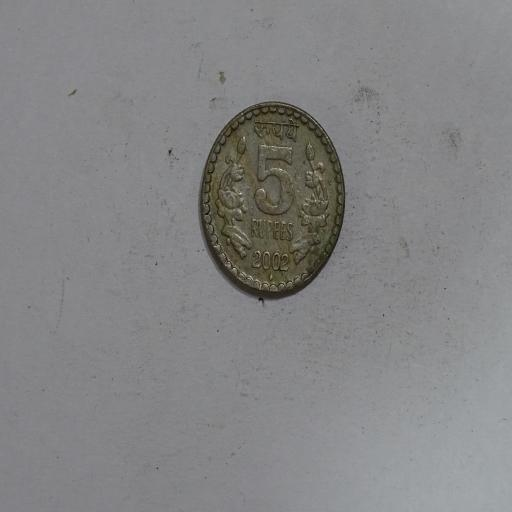rupee5: (194, 99, 343, 300)
